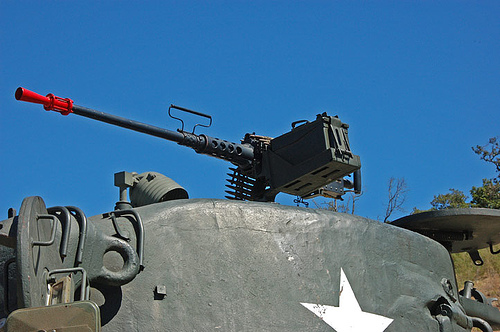rifle: (8, 54, 400, 206)
